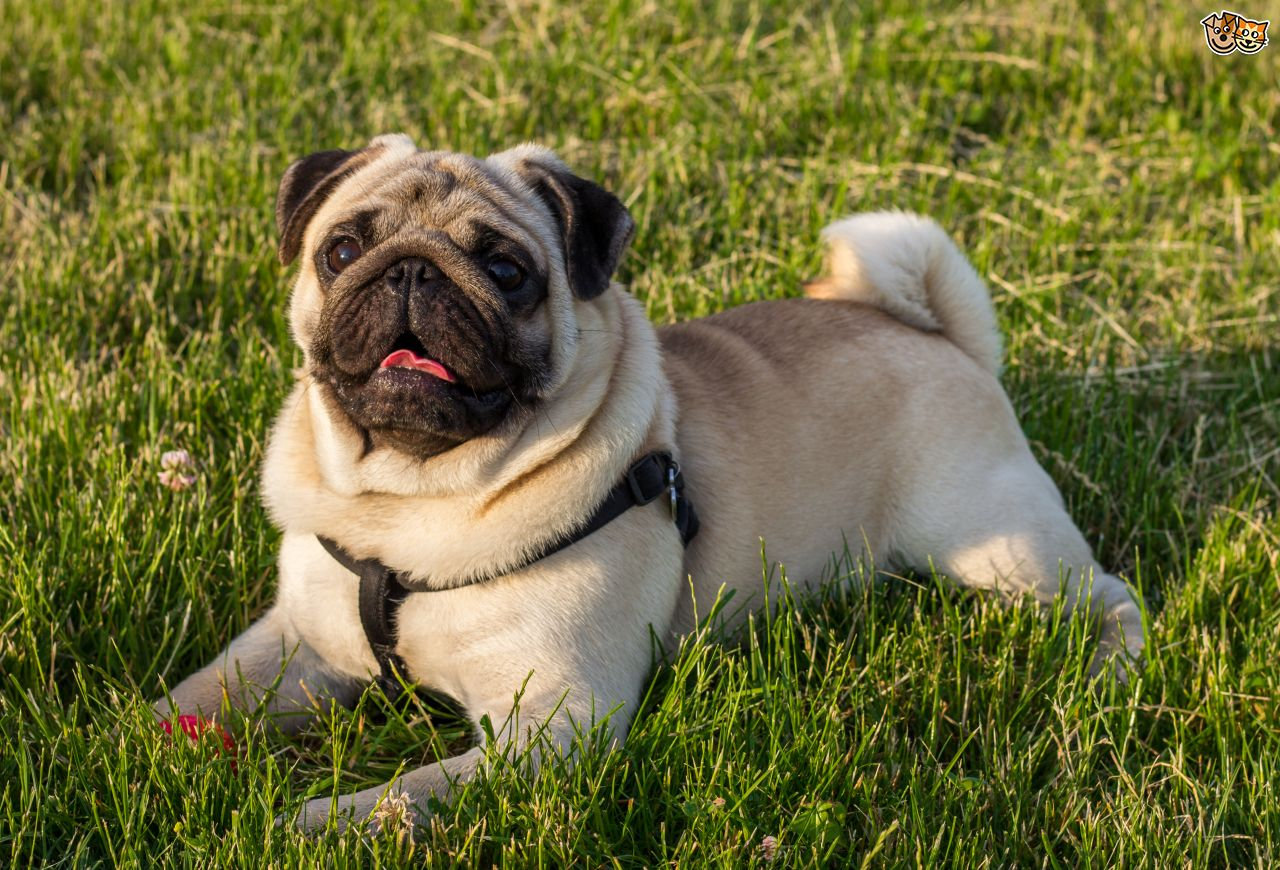dog: (106, 123, 1156, 853)
